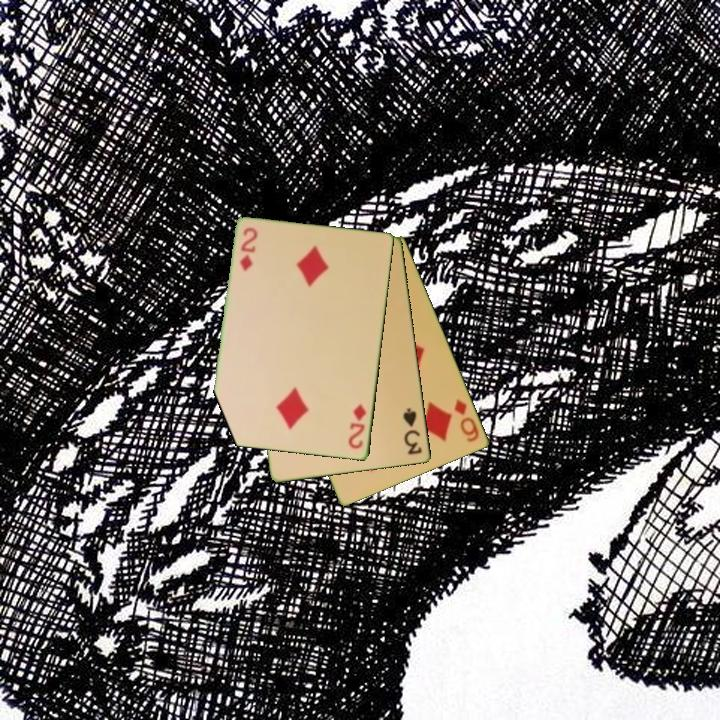2d: (345, 401, 369, 452), (237, 224, 258, 274)
3s: (400, 405, 425, 458)
6d: (451, 396, 482, 445)
